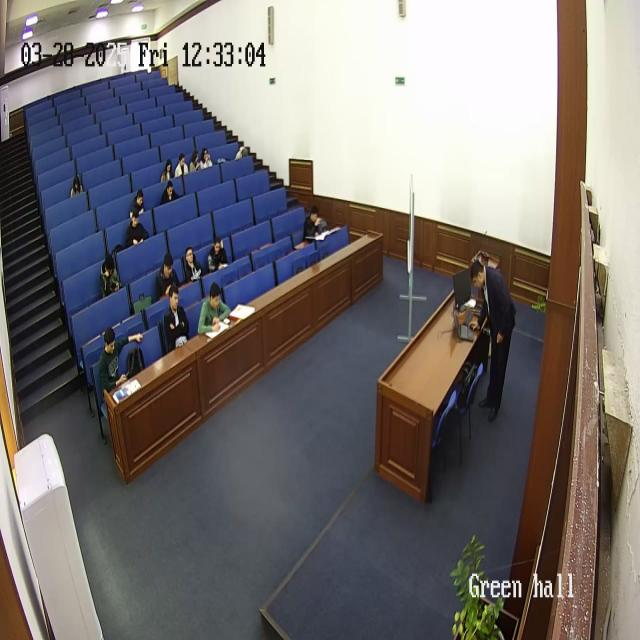person: (469, 258, 516, 420), (98, 326, 142, 401), (162, 285, 190, 351), (197, 282, 230, 335), (155, 252, 180, 302), (98, 254, 122, 299), (125, 209, 149, 248), (303, 204, 325, 243), (183, 244, 204, 284), (208, 235, 228, 273), (159, 180, 179, 207), (130, 188, 147, 218), (160, 158, 174, 186), (174, 152, 188, 180), (69, 173, 84, 199), (188, 148, 202, 174), (198, 146, 212, 170)
